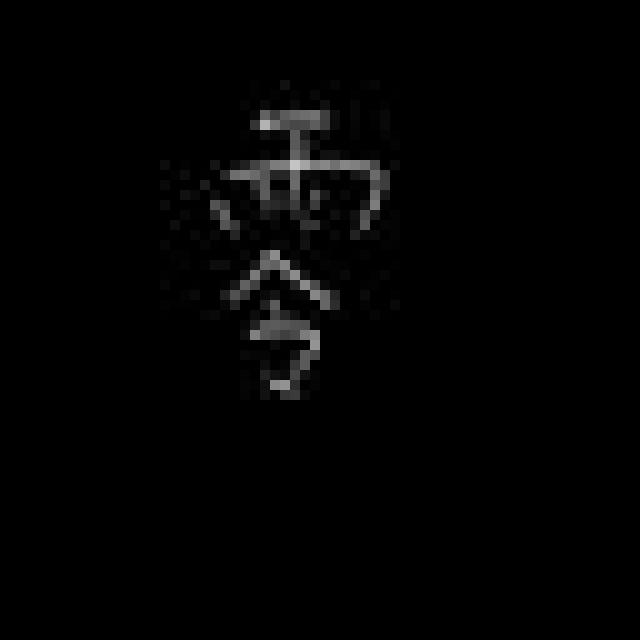0 -zero-: (202, 98, 389, 406)
